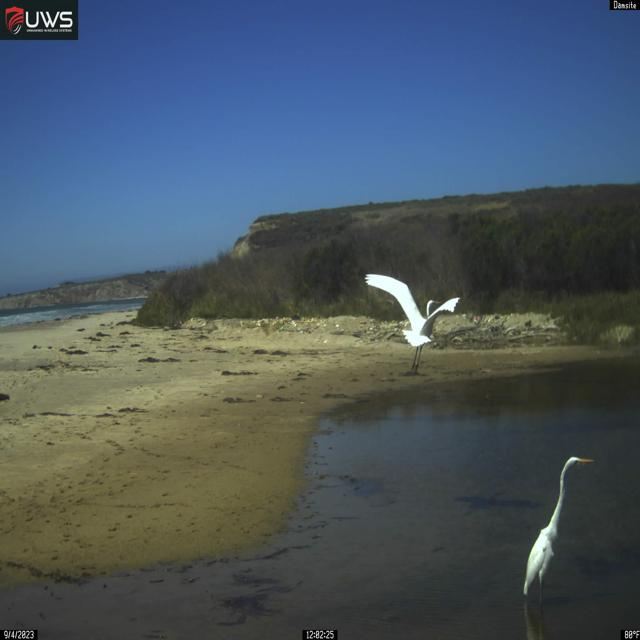bird: (364, 272, 461, 375)
